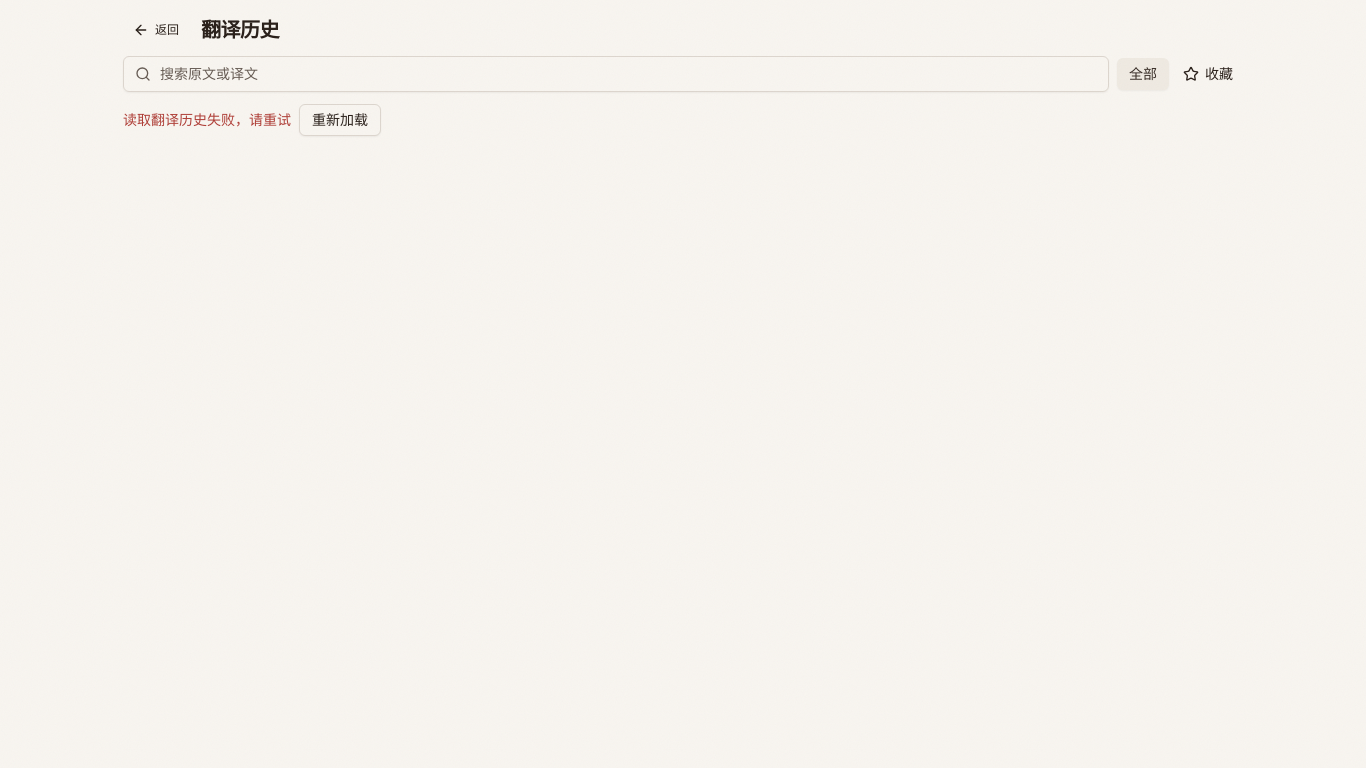
Test case: translation history › reports a read failure and allows retry
Check: the message shows "读取翻译历史失败", box 123,111 -> 291,129
Click the button "重新加载". click: (340, 120)
box: 299,104 -> 381,136
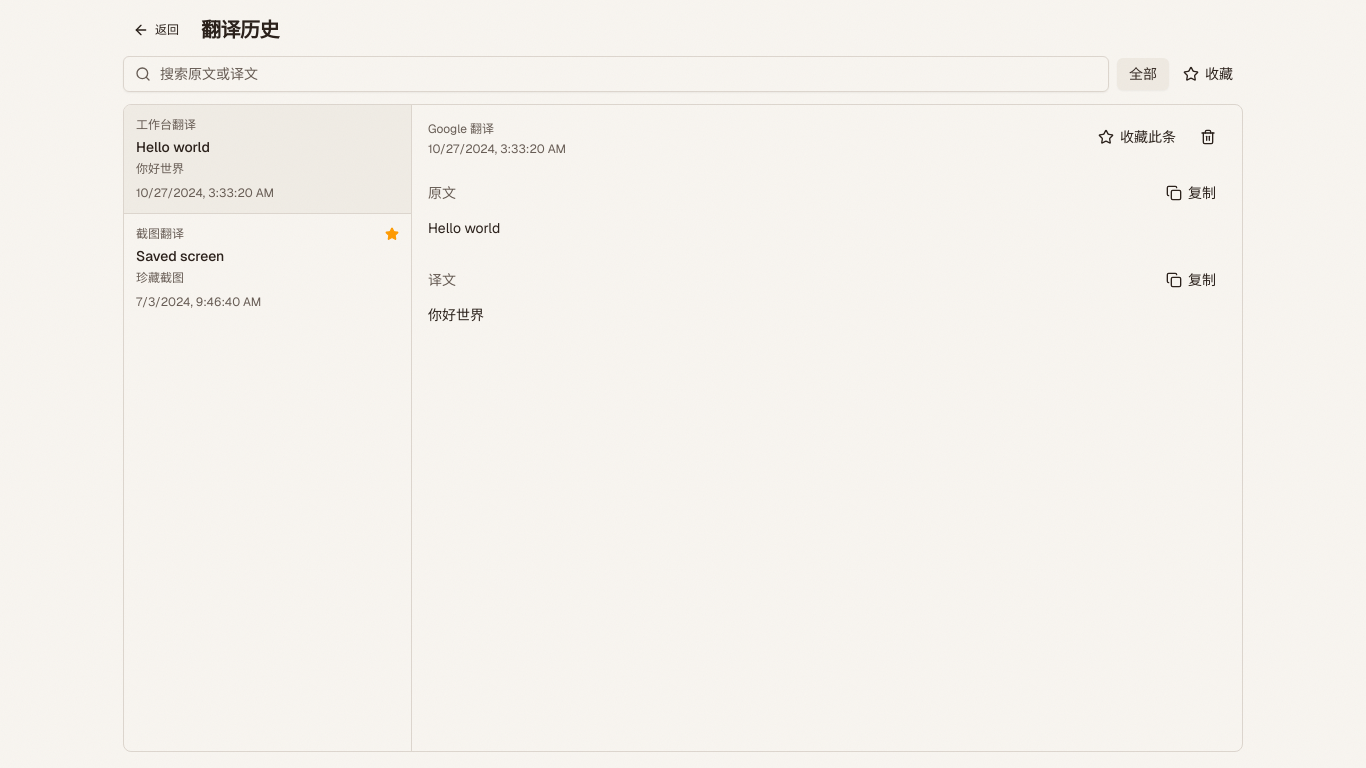
Check: the navigation bar named "翻译记录" is shown, box 124,105 -> 412,751
Check: the message "读取翻译历史失败，请重试" is gone
